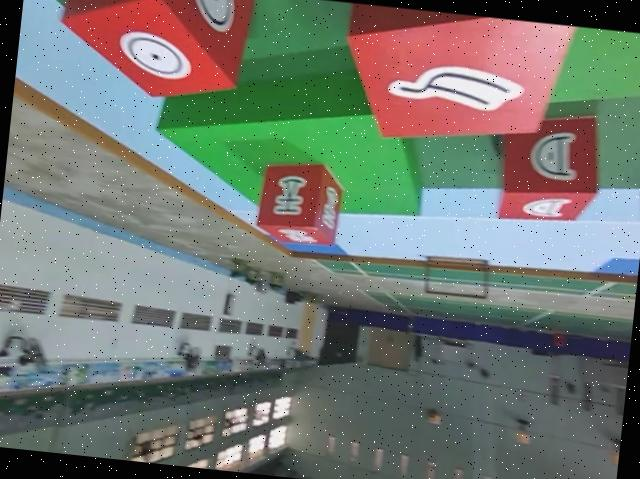R2 Real: (334, 2, 595, 161), (51, 0, 260, 110), (491, 99, 609, 230), (252, 152, 351, 251)
